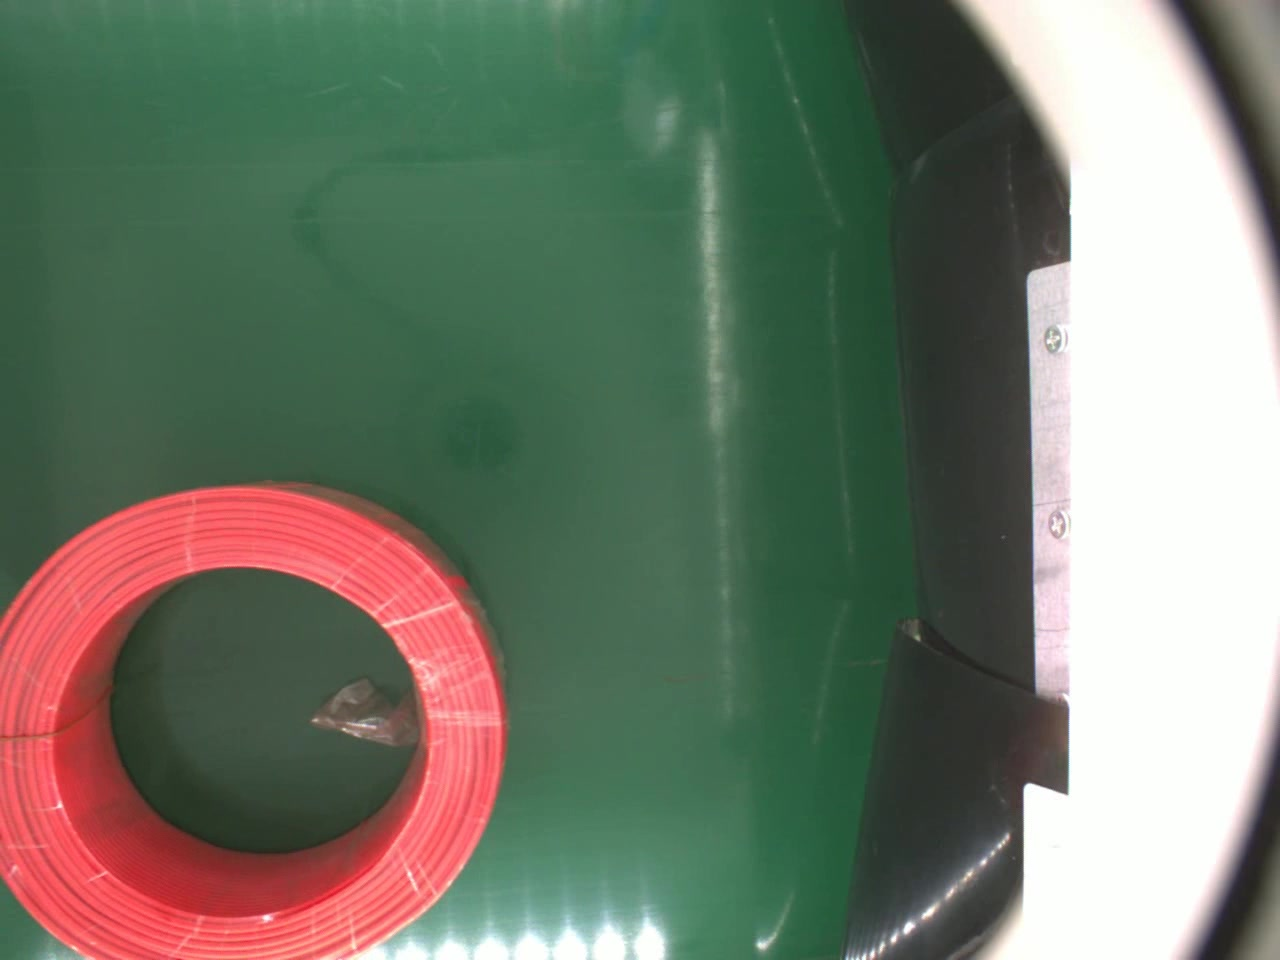red: (0, 475, 509, 960)
